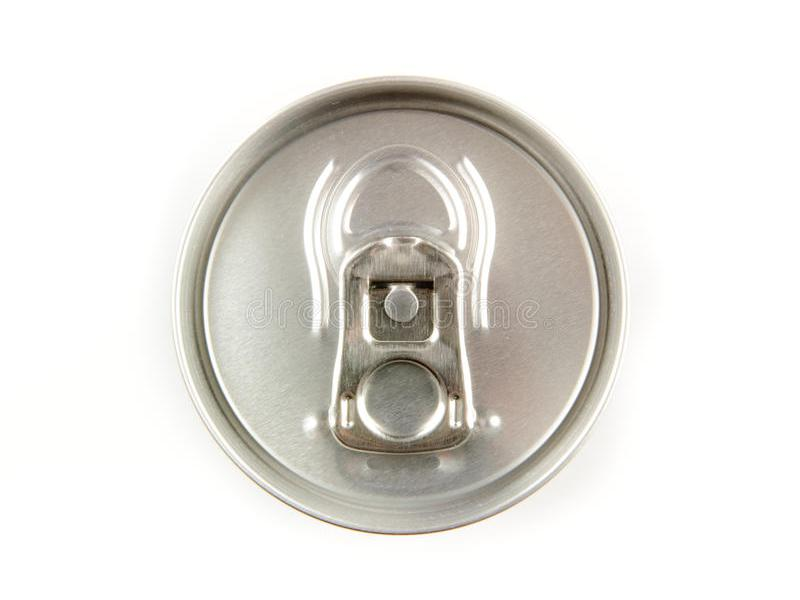can: (156, 65, 652, 549)
